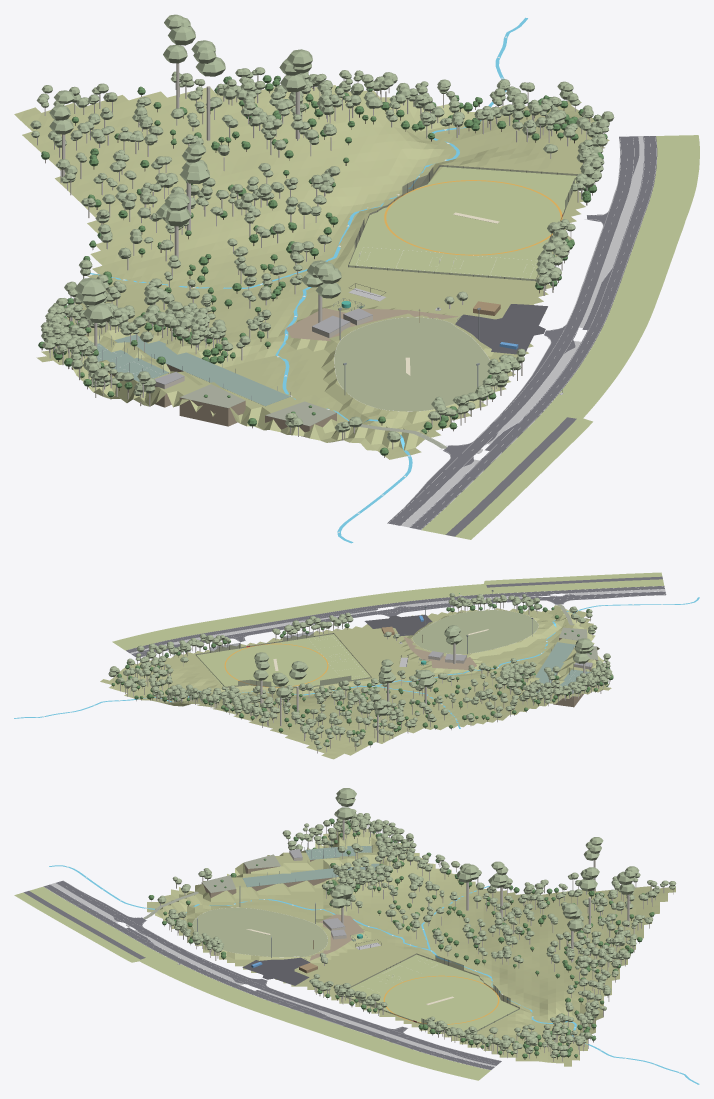
Rendered from KHFR_stage1_summer.glb.
3 renders of one model, top to bottom at view 1: azimuth 30°, elevation 25°; view 2: azimuth 150°, elevation 25°; view 3: azimuth 270°, elevation 25°, orthographic. The views are drawn at different scales.
Parts seen in each view (by area): view 1: Reserve terrain, Bushland forest (euc_can), Road reserve (far verge), field N flatgrass, Bush planting zones (euc_can), Existing Ground 1 (worn turf), Swansea Rd NE-bound (surveyed both edges), Giant eucalypts (canopies), Swansea Rd SW-bound (2 lanes, smooth), Tennis precinct bush retained (euc_can), Bushland forest (wat_can), Median (separated) (+16 smaller); view 2: Reserve terrain, Bushland forest (euc_can), Road reserve (far verge), field N flatgrass, Bush planting zones (euc_can), Existing Ground 1 (worn turf), Giant eucalypts (canopies), Swansea Rd SW-bound (2 lanes, smooth), Tennis precinct bush retained (euc_can), Swansea Rd NE-bound (surveyed both edges), Bushland forest (wat_can), Median (separated) (+10 smaller); view 3: Reserve terrain, Bushland forest (euc_can), Road reserve (far verge), field N flatgrass, Bush planting zones (euc_can), Existing Ground 1 (worn turf), Swansea Rd NE-bound (surveyed both edges), Tennis precinct bush retained (euc_can), Giant eucalypts (canopies), Swansea Rd SW-bound (2 lanes, smooth), Bushland forest (wat_can), Median (separated) (+10 smaller).
Boxes of the visible parts, left/top/right/bottom form: Reserve terrain: left=14, top=85, right=609, bottom=459; Bushland forest (euc_can): left=30, top=71, right=400, bottom=442; Road reserve (far verge): left=421, top=135, right=699, bottom=539; field N flatgrass: left=348, top=166, right=576, bottom=281; Bush planting zones (euc_can): left=216, top=67, right=614, bottom=416; Existing Ground 1 (worn turf): left=334, top=317, right=490, bottom=411; Swansea Rd NE-bound (surveyed both edges): left=387, top=136, right=639, bottom=525; Giant eucalypts (canopies): left=49, top=14, right=312, bottom=323; Swansea Rd SW-bound (2 lanes, smooth): left=409, top=136, right=657, bottom=529; Tennis precinct bush retained (euc_can): left=40, top=296, right=233, bottom=387; Bushland forest (wat_can): left=41, top=83, right=388, bottom=455; Median (separated): left=400, top=136, right=644, bottom=527; Reserve terrain: left=100, top=605, right=611, bottom=759; Bushland forest (euc_can): left=198, top=606, right=611, bottom=749; Road reserve (far verge): left=112, top=572, right=664, bottom=650; field N flatgrass: left=196, top=634, right=371, bottom=687; Bush planting zones (euc_can): left=108, top=593, right=540, bottom=716; Existing Ground 1 (worn turf): left=412, top=610, right=538, bottom=653; Giant eucalypts (canopies): left=253, top=638, right=593, bottom=715; Swansea Rd SW-bound (2 lanes, smooth): left=126, top=586, right=664, bottom=652; Tennis precinct bush retained (euc_can): left=495, top=661, right=613, bottom=703; Swansea Rd NE-bound (surveyed both edges): left=131, top=591, right=666, bottom=657; Bushland forest (wat_can): left=230, top=609, right=603, bottom=745; Median (separated): left=130, top=589, right=665, bottom=653; Reserve terrain: left=147, top=824, right=675, bottom=1066; Bushland forest (euc_can): left=157, top=817, right=676, bottom=980; Road reserve (far verge): left=14, top=886, right=490, bottom=1080; field N flatgrass: left=343, top=954, right=519, bottom=1037; Bush planting zones (euc_can): left=166, top=909, right=637, bottom=1057; Existing Ground 1 (worn turf): left=192, top=907, right=327, bottom=957; Swansea Rd NE-bound (surveyed both edges): left=56, top=880, right=501, bottom=1065; Tennis precinct bush retained (euc_can): left=295, top=809, right=416, bottom=888; Giant eucalypts (canopies): left=335, top=788, right=639, bottom=931; Swansea Rd SW-bound (2 lanes, smooth): left=43, top=884, right=494, bottom=1069; Bushland forest (wat_can): left=148, top=820, right=654, bottom=979; Median (separated): left=50, top=883, right=495, bottom=1066.
Bounding box in the file's own units: 495 × 86.35 × 599.
